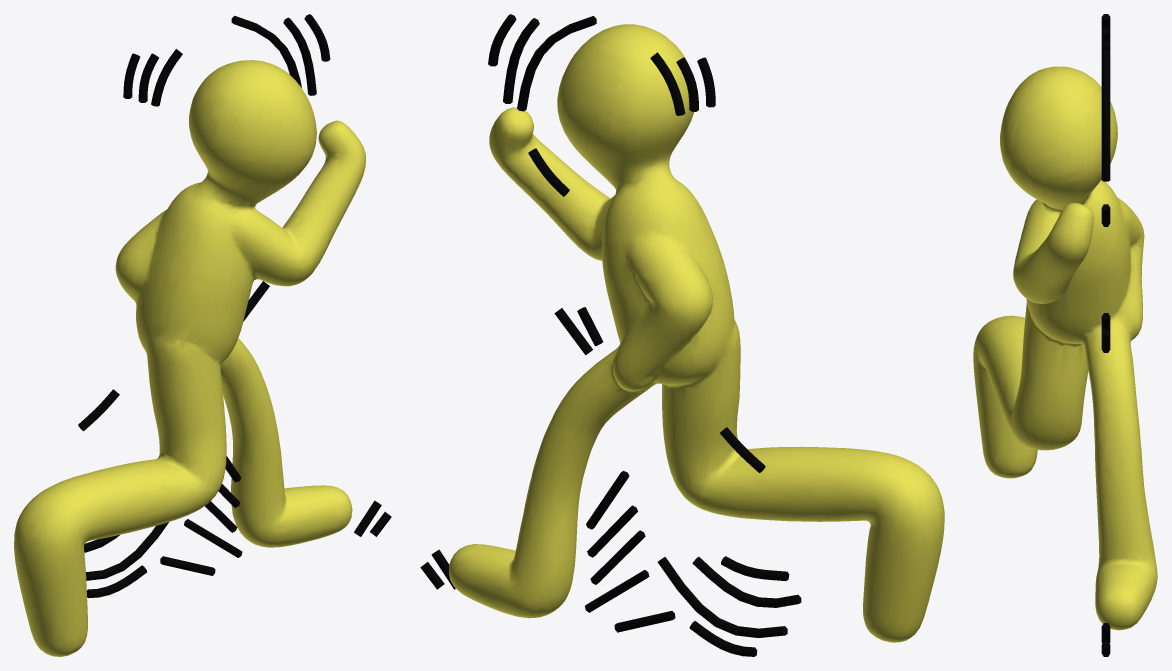
3 renders of one model, left to right at view 1: azimuth 30°, elevation 25°; view 2: azimuth 150°, elevation 25°; view 3: azimuth 270°, elevation 25°, orthographic. The views are drawn at different scales.
Visible parts, largest first — view 1: Cube.034, BézierCurve.017; view 2: Cube.034, BézierCurve.017; view 3: Cube.034, BézierCurve.017.
Part boxes in pixels (<box>): Cube.034: <box>14,60,365,656</box>; BézierCurve.017: <box>78,14,391,598</box>; Cube.034: <box>449,24,944,642</box>; BézierCurve.017: <box>420,14,801,656</box>; Cube.034: <box>973,66,1157,630</box>; BézierCurve.017: <box>1101,14,1110,656</box>.
Bounding box in the file's own units: 0.882 × 1.11 × 0.3433.
